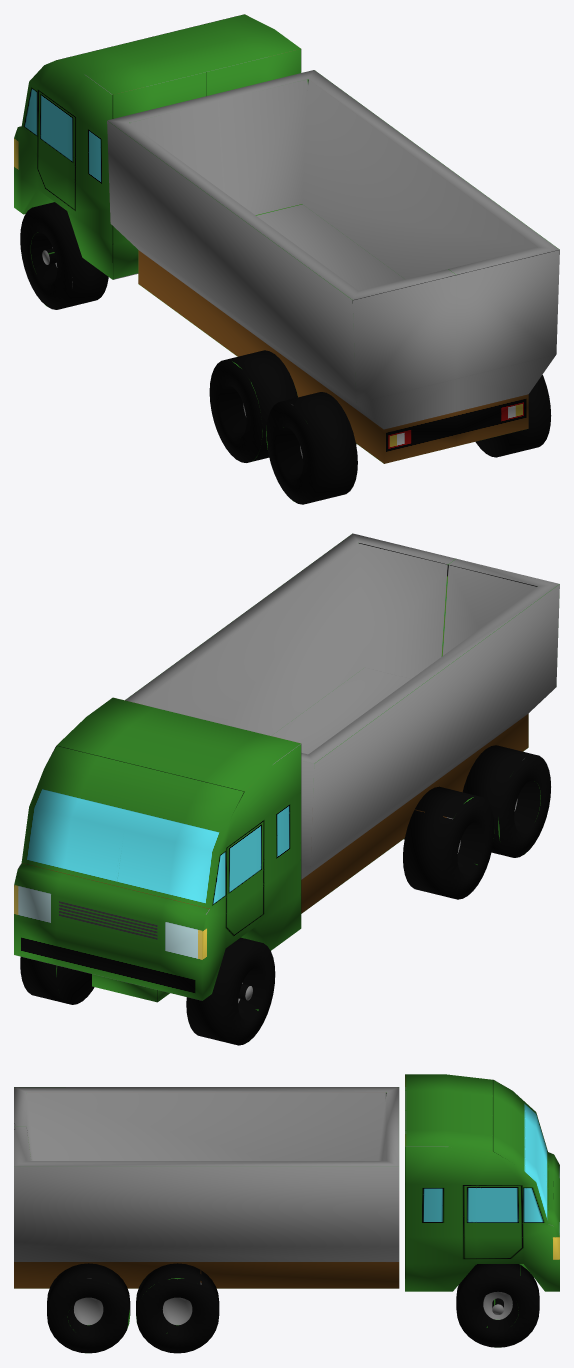
File: truck.gltf
3 views of the same model, one above another, from view 1: azimuth 30°, elevation 25°; view 2: azimuth 150°, elevation 25°; view 3: azimuth 270°, elevation 25° (orthographic). The views are drawn at different scales.
Parts seen in each view (by area): view 1: Cube.001; view 2: Cube.001; view 3: Cube.001.
Part boxes in pixels (x1,y1,x2,y2): Cube.001: [14, 14, 559, 504]; Cube.001: [14, 533, 559, 1045]; Cube.001: [14, 1074, 559, 1353].
Size of the model in its own units: 3.63 by 3.69 by 9.2.
1 material, 1 textured.
